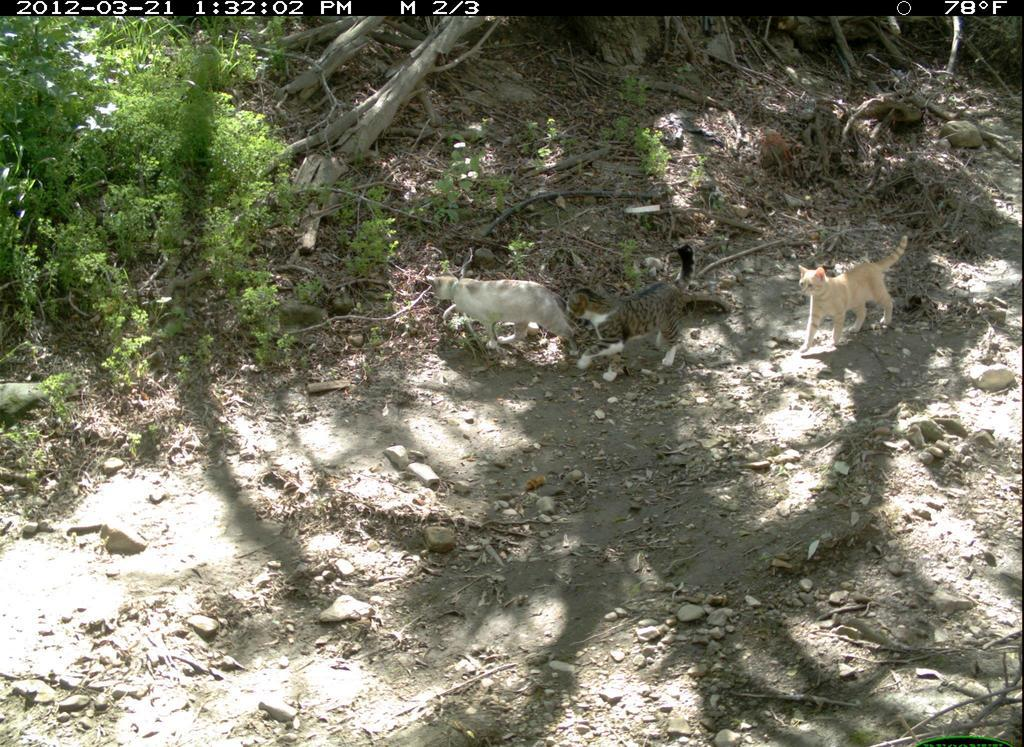cat: (568, 239, 711, 382), (792, 230, 922, 365), (417, 264, 575, 365)
